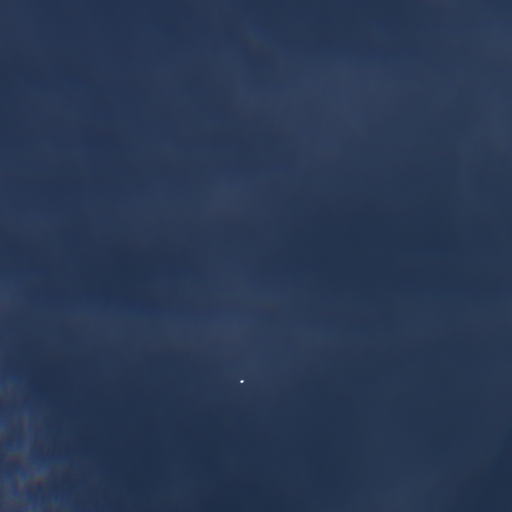Iceberg: (240, 380, 244, 382)
